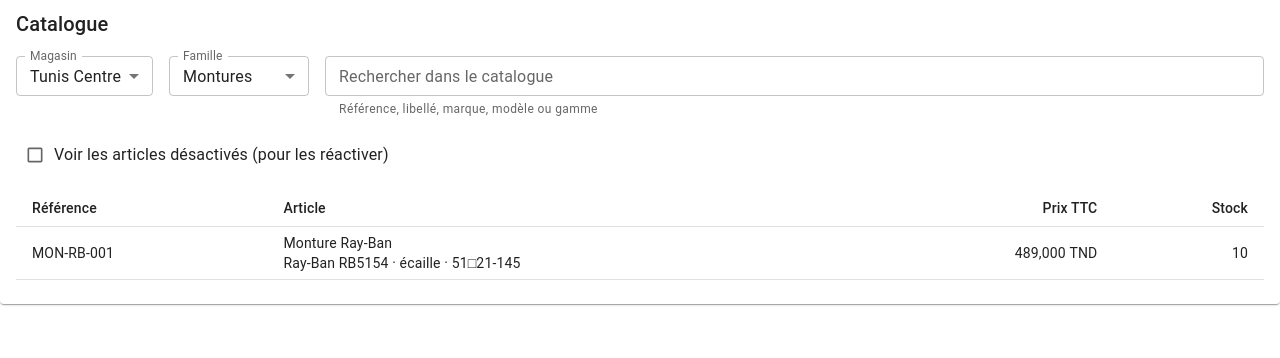
Test: affiche le catalogue par famille avec les caractéristiques
The width and height of the screenshot is (1280, 358).
Expected: the text "Ray-Ban RB5154 · écaille · 51□21-145" is shown, [284,255,520,271]
Press the mouse on the dropdown named "Famille" at (218, 76), box [183,66,252,86]
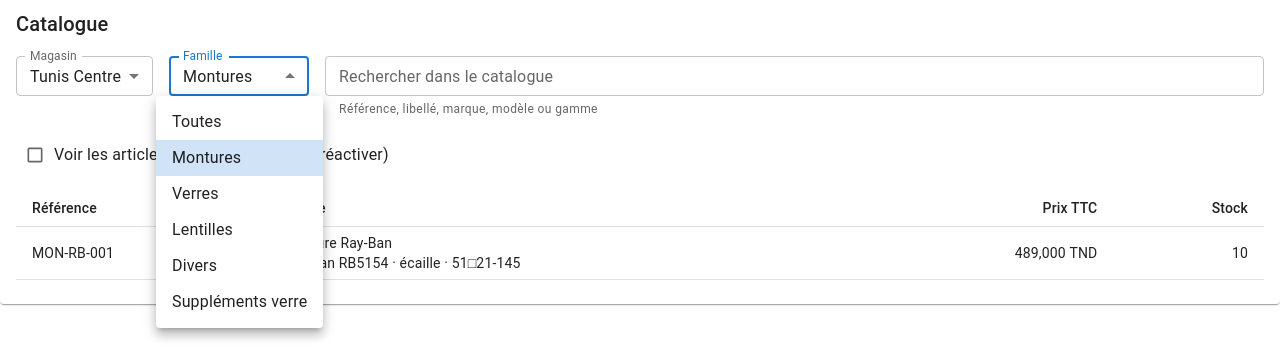
Click the option "Verres" at (195, 194), box [172,184,219,203]
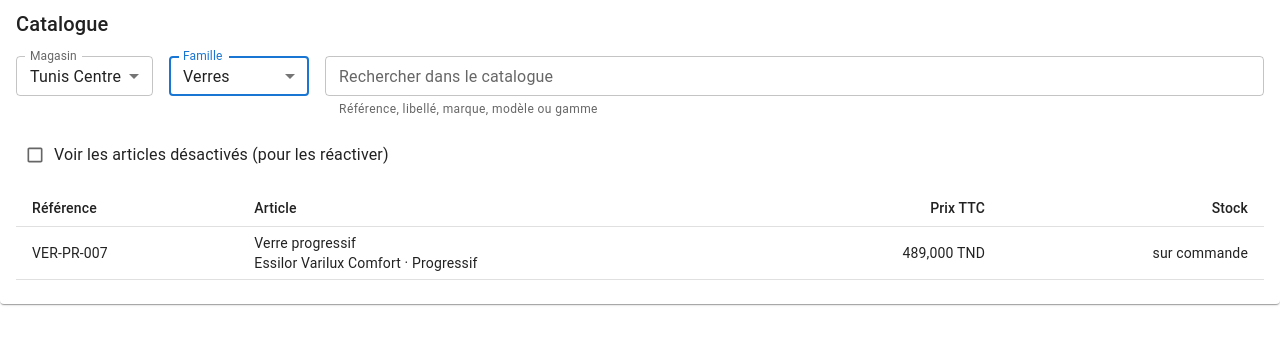
Result: the text "Essilor Varilux Comfort · Progressif" is shown at [254,255,478,271]
Result: the text "sur commande" is shown at [1001,226,1264,279]
